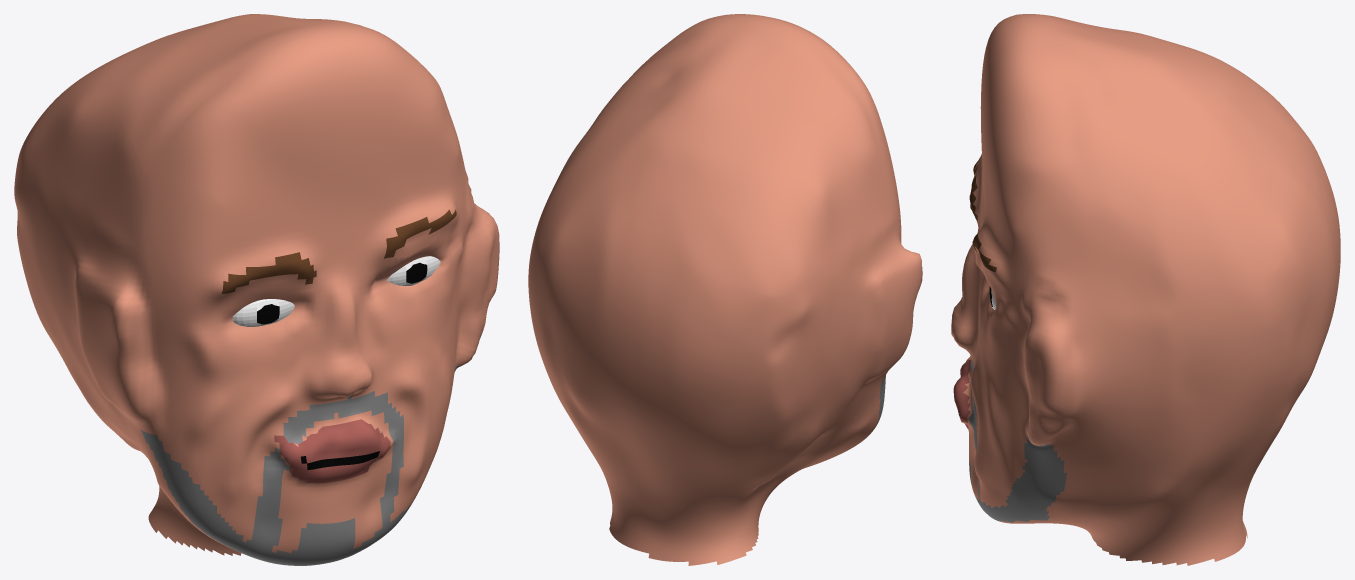
Rendered from TheRock.fbx.
The picture shows the model from 3 angles, left to right: view 1: azimuth 30°, elevation 25°; view 2: azimuth 150°, elevation 25°; view 3: azimuth 270°, elevation 25°; orthographic projection. The views are drawn at different scales.
Visible parts, largest first — view 1: TheRock; view 2: TheRock; view 3: TheRock.
Boxes of the visible parts, <box> form: TheRock: <box>14,14,499,565</box>; TheRock: <box>528,14,922,565</box>; TheRock: <box>951,14,1340,565</box>.
Size of the model in its own units: 28.45 by 37.79 by 26.35.
